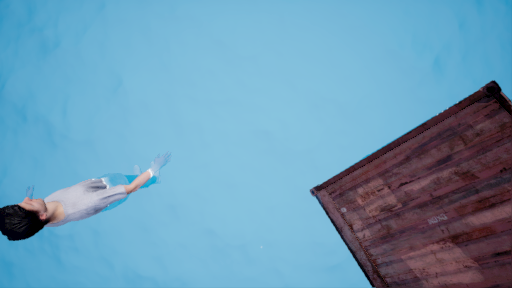person: (4, 158, 163, 239)
